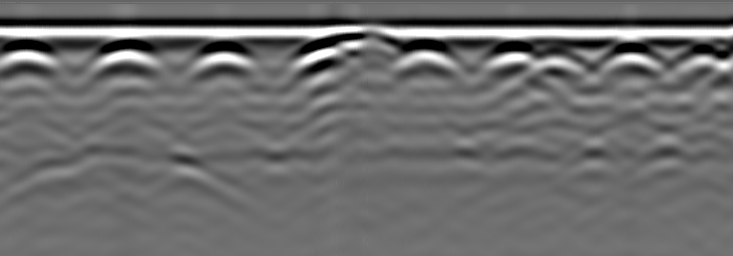pipe: (322, 26, 409, 54)
steel: (90, 40, 164, 79), (191, 43, 256, 81), (396, 42, 456, 78), (603, 44, 664, 73), (534, 47, 591, 78), (1, 44, 53, 77), (486, 42, 538, 72)
